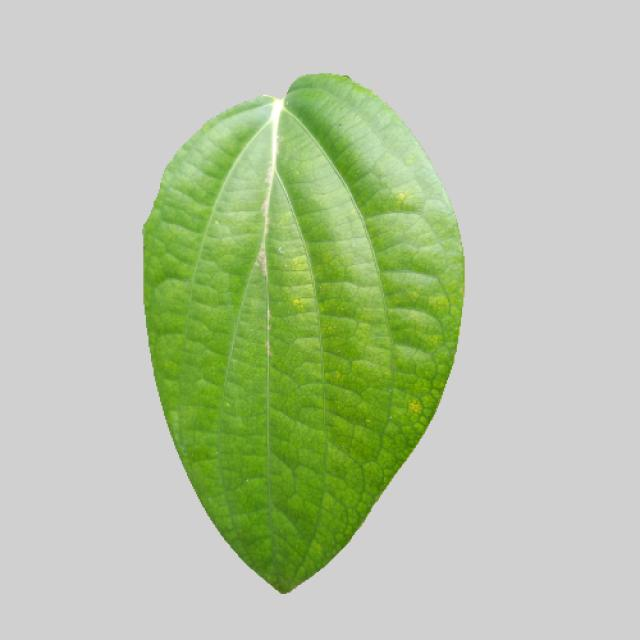healthy: (141, 65, 474, 600)
